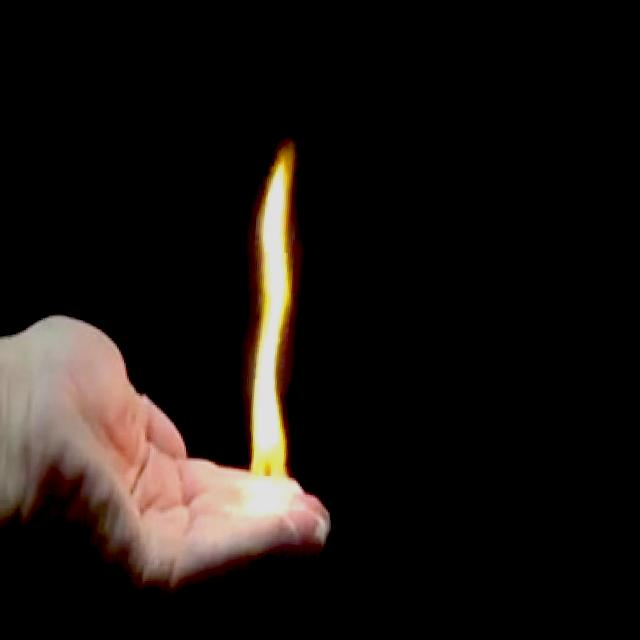helmet: (234, 146, 318, 516)
